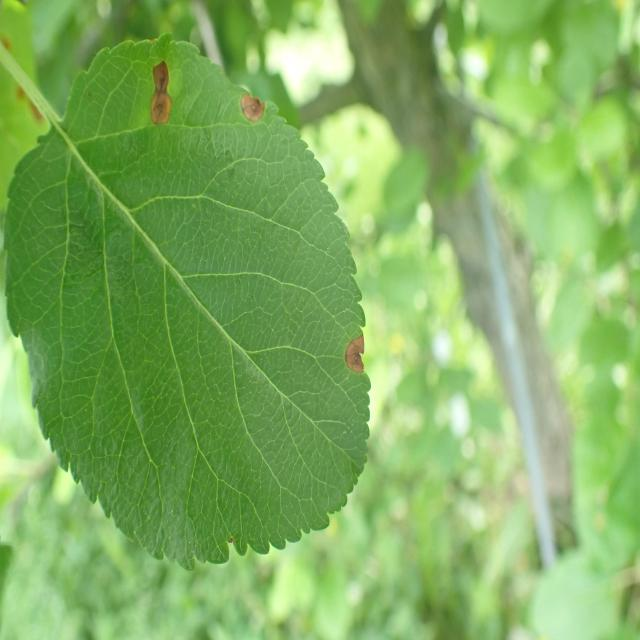Black Rot: (149, 39, 193, 134), (229, 72, 269, 132)
